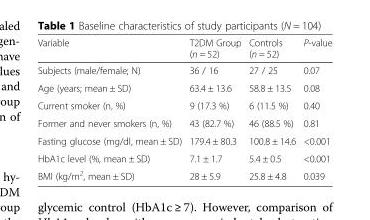table: (36, 36, 331, 181)
table column: (36, 36, 184, 181), (184, 36, 244, 181), (244, 36, 298, 181), (298, 36, 331, 181)
table column header: (36, 36, 331, 61)
table row: (36, 36, 331, 61), (36, 78, 331, 96), (36, 96, 331, 114), (36, 131, 331, 149), (36, 61, 331, 78), (36, 114, 331, 131), (36, 149, 331, 166), (36, 166, 331, 181)
